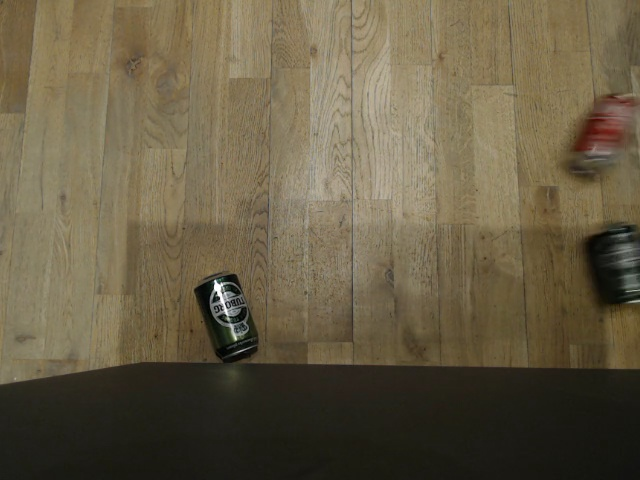beer: (191, 267, 261, 362), (585, 226, 640, 305)
cola: (569, 94, 633, 170)
